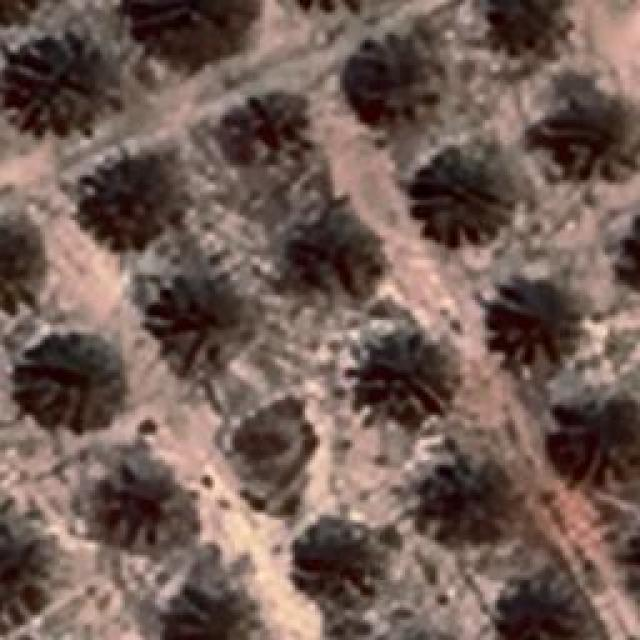PalmTree: (12, 335, 128, 430), (8, 30, 110, 130), (286, 204, 389, 294), (78, 157, 188, 240), (416, 144, 512, 238), (128, 0, 254, 68), (552, 92, 640, 178), (412, 460, 502, 542), (356, 34, 442, 114), (560, 395, 640, 480), (156, 268, 236, 348), (482, 280, 562, 358), (0, 515, 55, 625), (96, 468, 182, 538), (371, 340, 454, 410), (162, 575, 248, 640), (508, 577, 596, 640), (228, 92, 306, 156), (294, 524, 376, 582), (488, 0, 573, 52), (0, 212, 40, 306), (603, 206, 640, 299), (0, 0, 43, 39)
